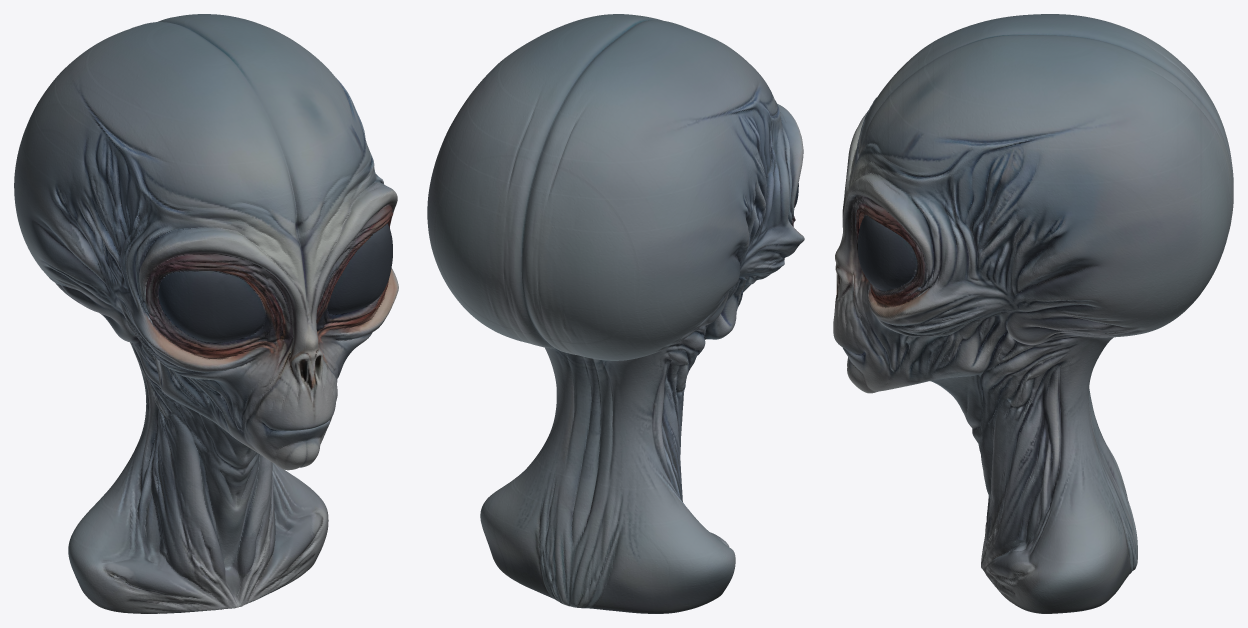
The model's file is alien01.glb.
3 renders of one model, left to right at view 1: azimuth 30°, elevation 25°; view 2: azimuth 150°, elevation 25°; view 3: azimuth 270°, elevation 25°, orthographic. The views are drawn at different scales.
Visible parts, largest first — view 1: Grey Alien Bust G - OBJ raw colour; view 2: Grey Alien Bust G - OBJ raw colour; view 3: Grey Alien Bust G - OBJ raw colour.
Boxes of the visible parts, x1,y1,x2,y2 form: Grey Alien Bust G - OBJ raw colour: (14, 14, 398, 613); Grey Alien Bust G - OBJ raw colour: (427, 14, 804, 613); Grey Alien Bust G - OBJ raw colour: (833, 14, 1233, 613).
Size of the model in its own units: 1.64 by 2.95 by 2.
